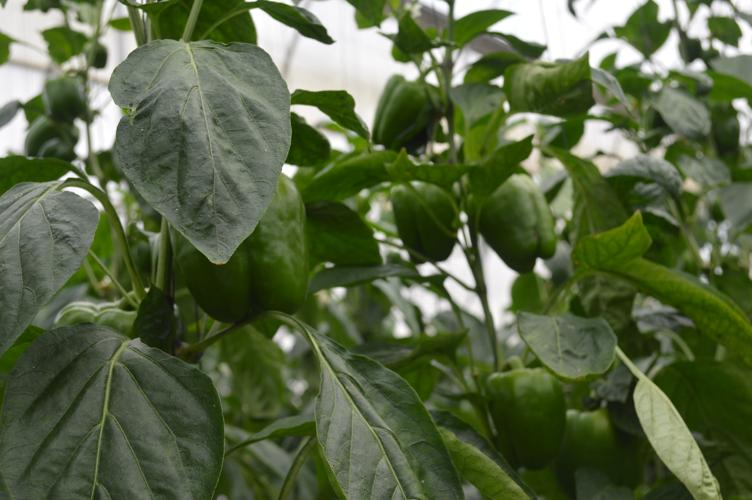BellPepper: (155, 166, 314, 323), (470, 163, 567, 282), (478, 355, 564, 474), (567, 396, 651, 498), (382, 173, 461, 263), (361, 73, 440, 151)
